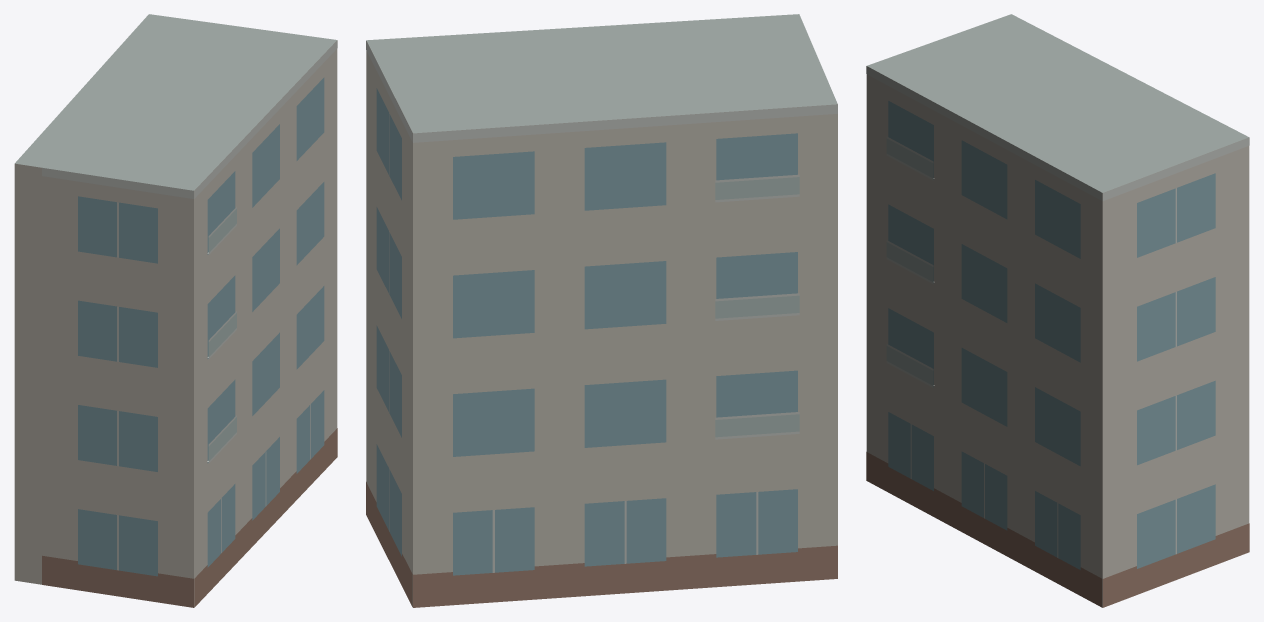
File: survey-upis-32844030.glb
The picture shows the model from 3 angles, left to right: view 1: azimuth 30°, elevation 25°; view 2: azimuth 150°, elevation 25°; view 3: azimuth 270°, elevation 25°; orthographic projection. The views are drawn at different scales.
Visible parts, largest first — view 1: survey-upis-32844030.tmp; view 2: survey-upis-32844030.tmp; view 3: survey-upis-32844030.tmp.
Boxes of the visible parts, bbox=[...] form: survey-upis-32844030.tmp: bbox=[14, 14, 337, 607]; survey-upis-32844030.tmp: bbox=[366, 14, 837, 607]; survey-upis-32844030.tmp: bbox=[866, 14, 1249, 607].
Bounding box in the file's own units: 11.3 × 12.2 × 10.21.
